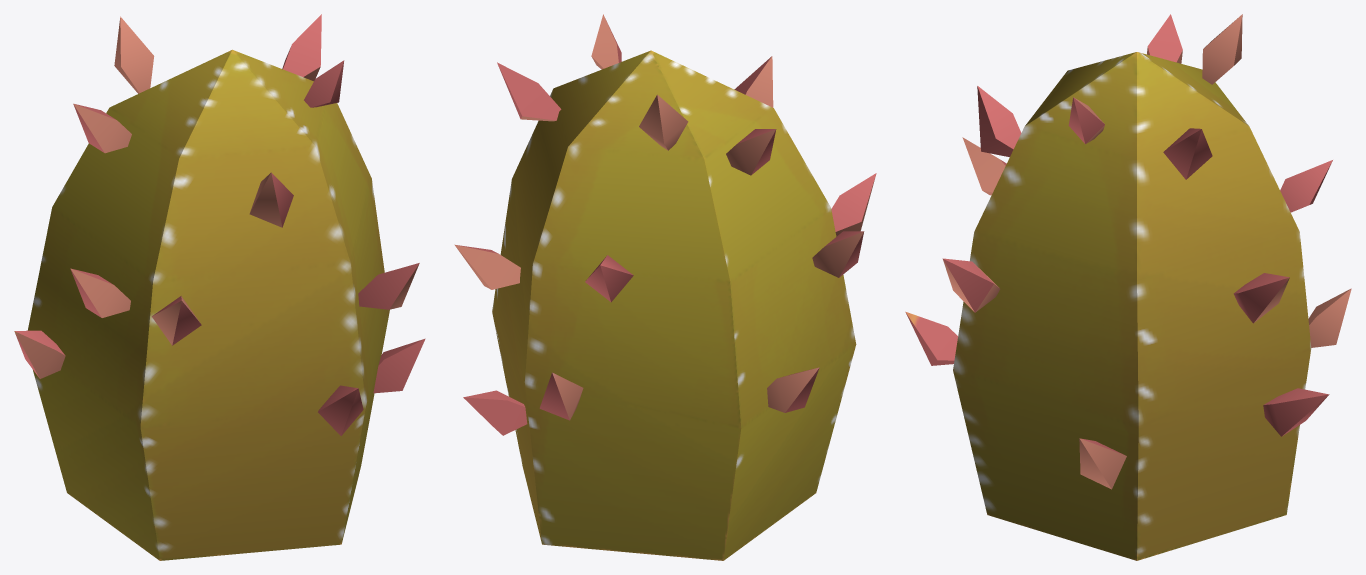
Rendered from desert-cactus3.fbx.
3 renders of one model, left to right at view 1: azimuth 30°, elevation 25°; view 2: azimuth 150°, elevation 25°; view 3: azimuth 270°, elevation 25°, orthographic.
Visible parts, largest first — view 1: polySurface95; view 2: polySurface95; view 3: polySurface95.
Boxes of the visible parts, x1=… form: polySurface95: x1=14, y1=14, x2=425, y2=560; polySurface95: x1=454, y1=14, x2=876, y2=560; polySurface95: x1=905, y1=14, x2=1351, y2=560.
Size of the model in its own units: 59.18 by 72.26 by 64.19.
1 material, 1 textured.
